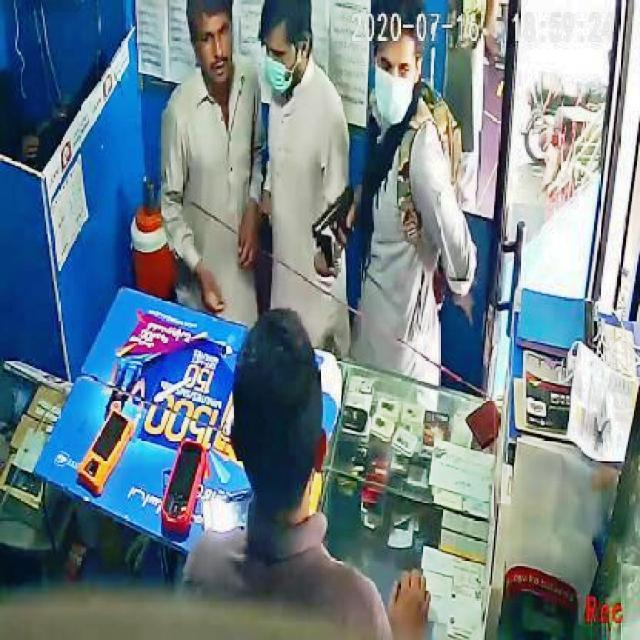Gun: (308, 186, 361, 255)
